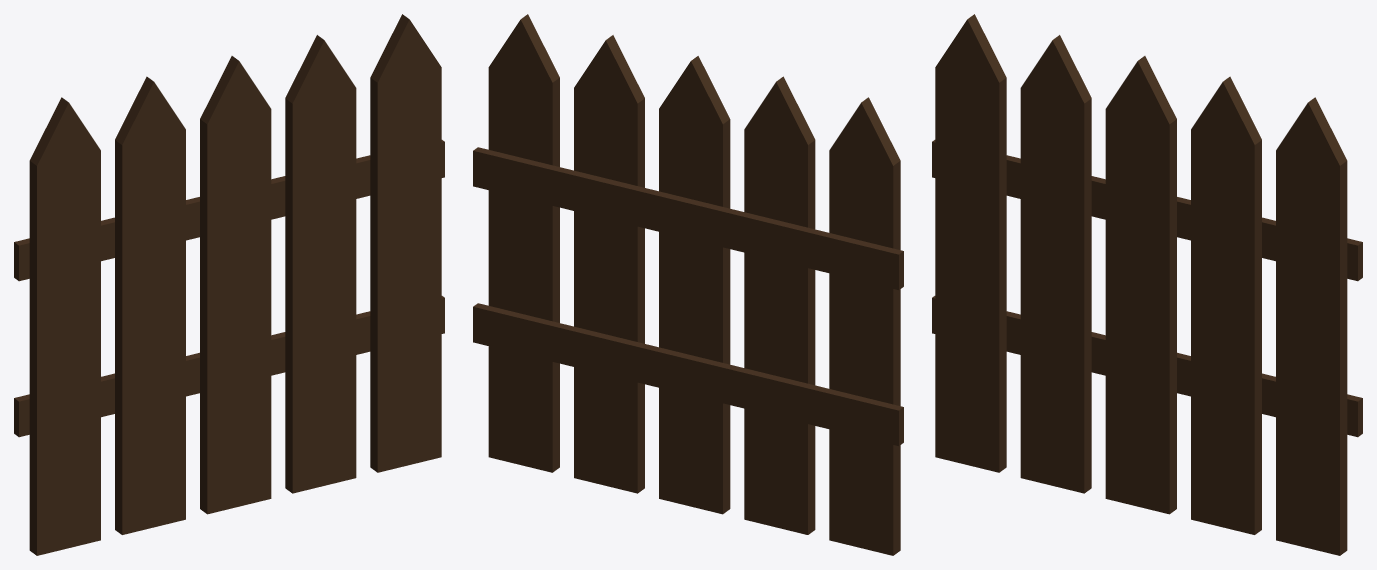
The model's file is Fence_7_Dark_Brown.fbx.
3 renders of one model, left to right at view 1: azimuth 30°, elevation 25°; view 2: azimuth 150°, elevation 25°; view 3: azimuth 330°, elevation 25°, orthographic.
Visible parts, largest first — view 1: Fence_7_Dark_Brown; view 2: Fence_7_Dark_Brown; view 3: Fence_7_Dark_Brown.
Boxes of the visible parts, left/top/right/bottom form: Fence_7_Dark_Brown: left=14, top=14, right=444, bottom=555; Fence_7_Dark_Brown: left=473, top=14, right=903, bottom=555; Fence_7_Dark_Brown: left=932, top=14, right=1362, bottom=555.
Bounding box in the file's own units: 100 × 100 × 5.
